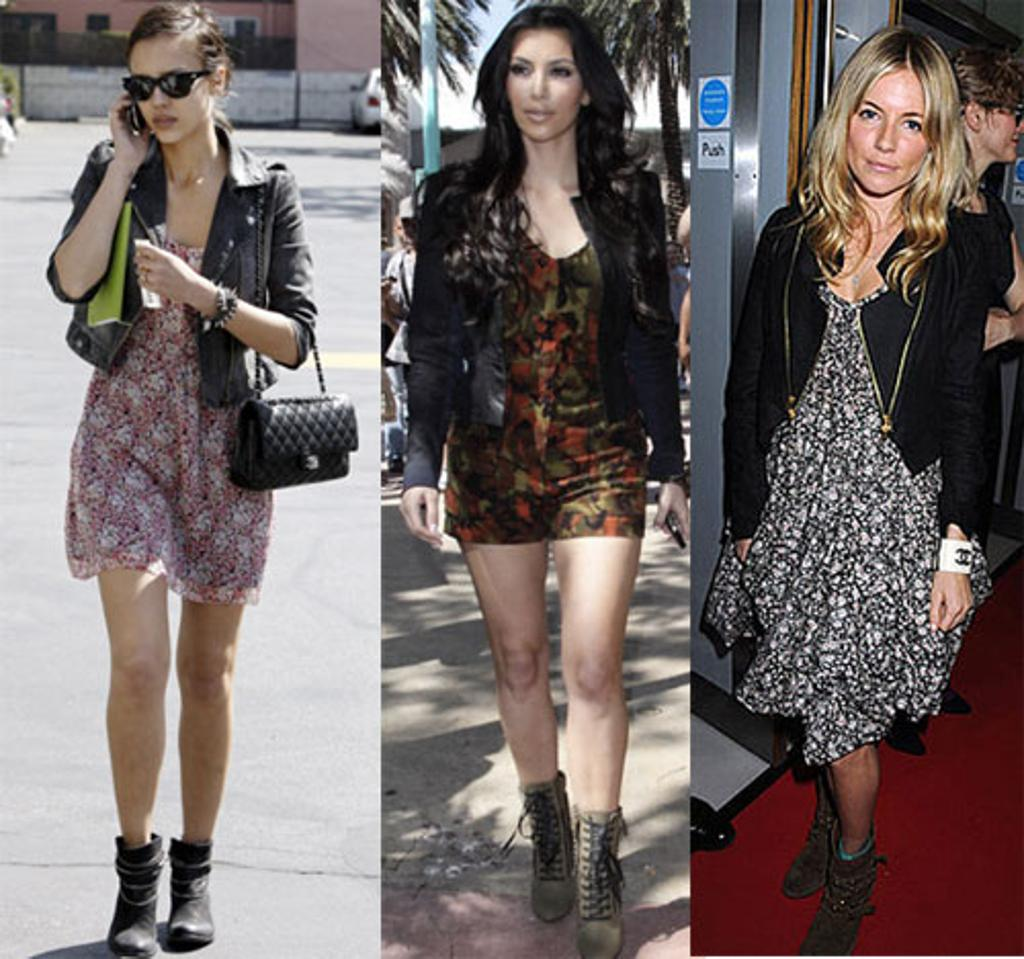face: (849, 83, 932, 193), (130, 45, 213, 143), (505, 35, 581, 140), (982, 81, 1024, 161)
